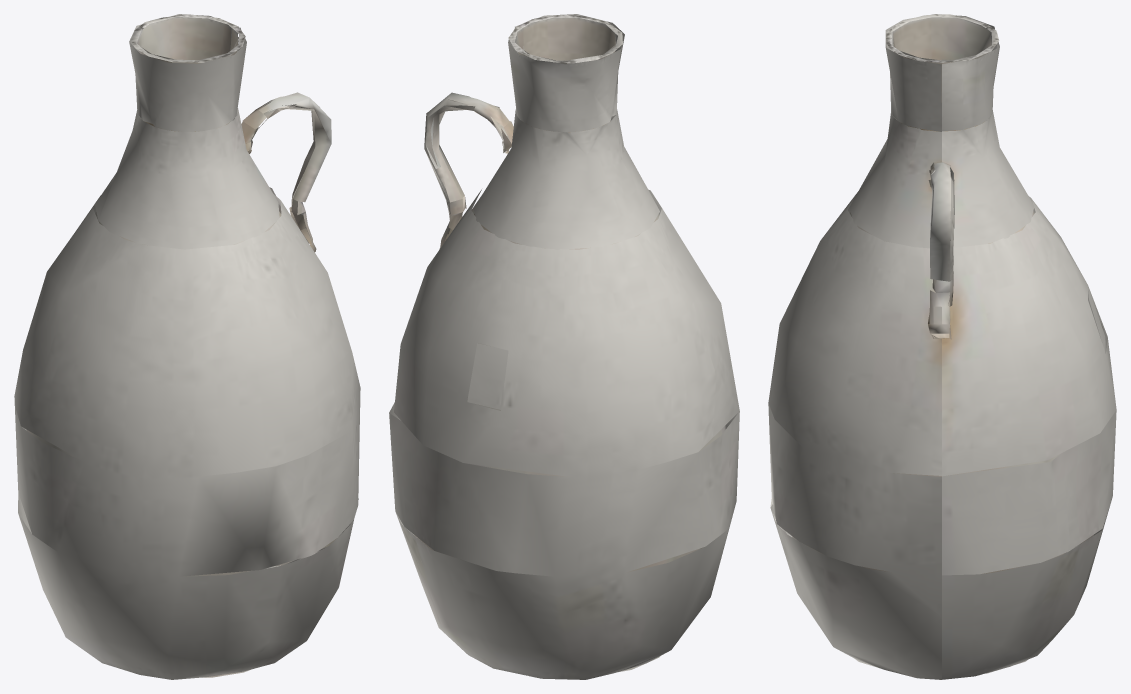
The model's file is jar_small.glb.
The picture shows the model from 3 angles, left to right: view 1: azimuth 30°, elevation 25°; view 2: azimuth 150°, elevation 25°; view 3: azimuth 270°, elevation 25°; orthographic projection.
Visible parts, largest first — view 1: ceramic_vase_04; view 2: ceramic_vase_04; view 3: ceramic_vase_04.
Boxes of the visible parts, x1,y1,x2,y2 form: ceramic_vase_04: (14, 14, 360, 679); ceramic_vase_04: (389, 14, 739, 679); ceramic_vase_04: (768, 14, 1116, 679).
Size of the model in its own units: 0.1831 by 0.3425 by 0.182.
Materials: 1 (1 with a texture image).
